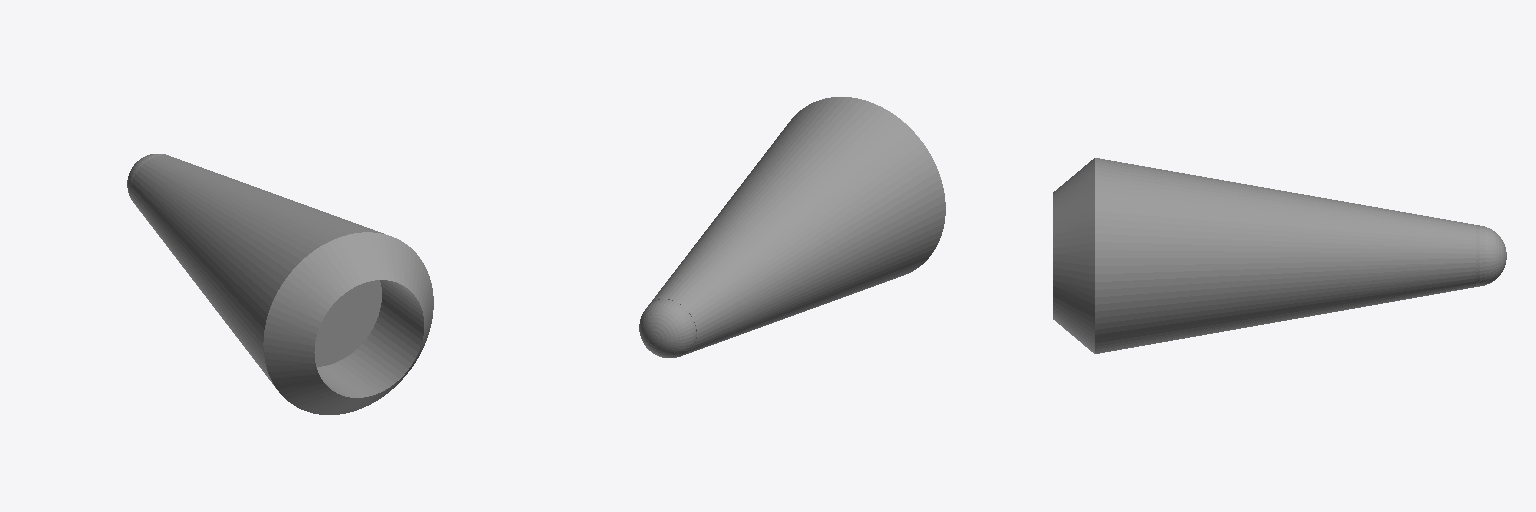
Rendered from TorcheWihtUV.obj.
3 renders of one model, left to right at view 1: azimuth 30°, elevation 25°; view 2: azimuth 150°, elevation 25°; view 3: azimuth 270°, elevation 25°, orthographic.
Parts seen in each view (by area): view 1: Torche; view 2: Torche; view 3: Torche.
Part boxes in pixels (left/top/right/bottom): Torche: left=127, top=154, right=433, bottom=414; Torche: left=639, top=97, right=945, bottom=357; Torche: left=1053, top=158, right=1506, bottom=353.
Size of the model in its own units: 93.05 by 93.05 by 215.